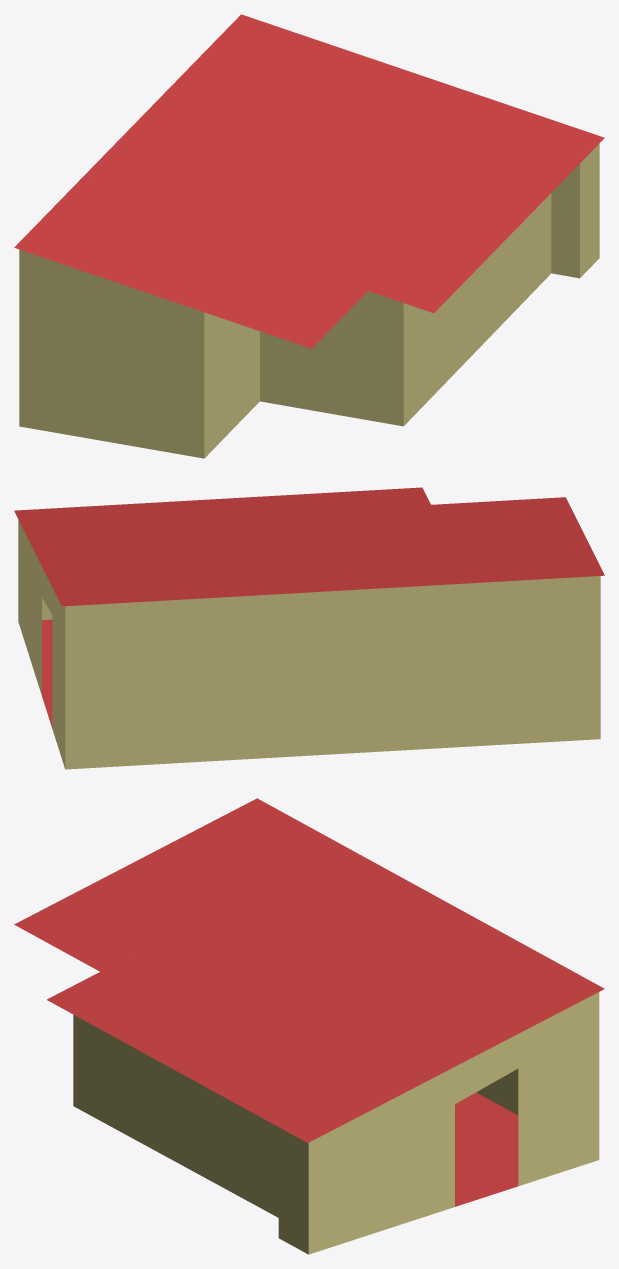
3 renders of one model, top to bottom at view 1: azimuth 30°, elevation 25°; view 2: azimuth 150°, elevation 25°; view 3: azimuth 270°, elevation 25°, orthographic. The views are drawn at different scales.
Size of the model in its own units: 42.74 by 37.14 by 11.88.
